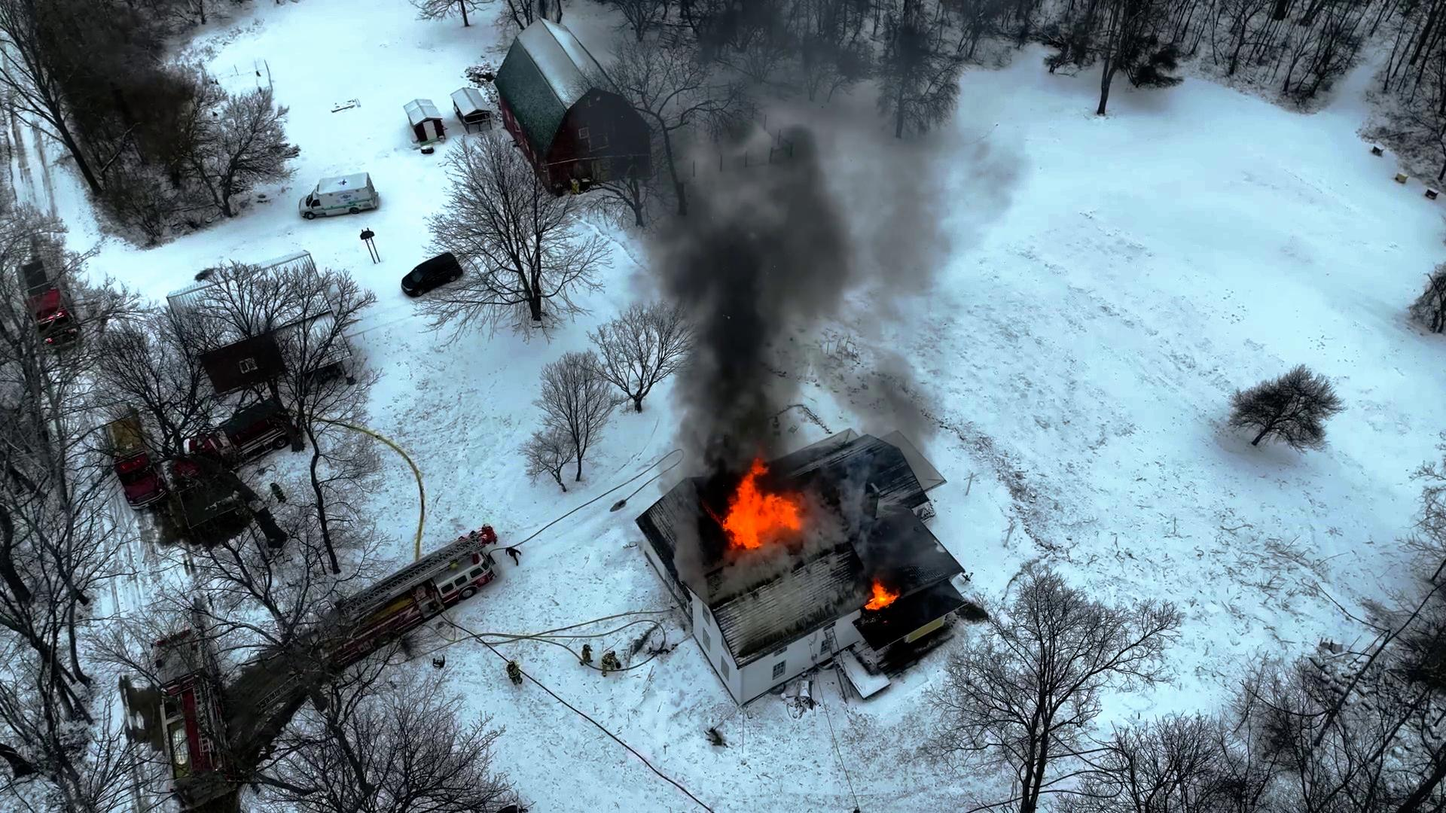fire: (723, 458, 804, 550), (866, 574, 909, 619)
smoke: (712, 222, 801, 449)
